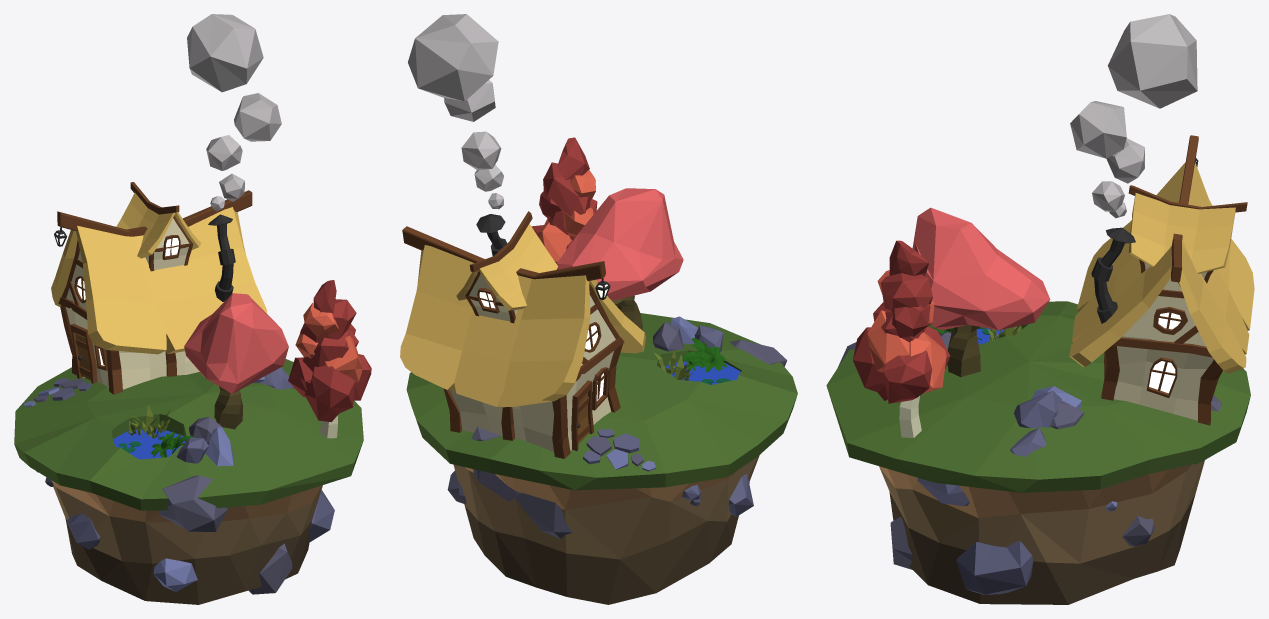
Rendered from low-poly-landscape2.fbx.
3 renders of one model, left to right at view 1: azimuth 30°, elevation 25°; view 2: azimuth 150°, elevation 25°; view 3: azimuth 270°, elevation 25°, orthographic. The views are drawn at different scales.
Parts seen in each view (by area): view 1: Cylinder.005, Cylinder, roof, Icosphere.013, smoke 3, house body, Icosphere.017, Icosphere.002, attic roof, smoke 4, house main beam, Cylinder.003 (+20 smaller); view 2: Cylinder.005, Cylinder, roof, Icosphere.013, smoke 3, house body, attic roof, Icosphere.022, house main beam, Icosphere.011, smoke, smoke 4 (+14 smaller); view 3: Cylinder.005, Cylinder, roof, Icosphere.013, house body, smoke 3, attic roof, Icosphere.020, smoke 4, Icosphere.003, Cylinder.003, Icosphere.011 (+20 smaller).
Boxes of the visible parts, x1,y1,x2,y2 form: Cylinder.005: [14, 359, 363, 510]; Cylinder: [52, 480, 322, 604]; roof: [51, 207, 267, 354]; Icosphere.013: [184, 293, 288, 393]; smoke 3: [187, 14, 263, 92]; house body: [66, 251, 199, 389]; Icosphere.017: [159, 475, 227, 531]; Icosphere.002: [304, 365, 355, 422]; attic roof: [116, 192, 201, 258]; smoke 4: [234, 93, 281, 141]; house main beam: [57, 190, 252, 236]; Cylinder.003: [208, 214, 235, 301]; Cylinder.005: [406, 313, 797, 490]; Cylinder: [453, 455, 759, 604]; roof: [400, 245, 645, 407]; Icosphere.013: [556, 188, 683, 300]; smoke 3: [408, 14, 498, 101]; house body: [450, 295, 615, 452]; attic roof: [456, 224, 557, 310]; Icosphere.022: [471, 427, 572, 538]; house main beam: [402, 226, 605, 280]; Icosphere.011: [543, 162, 590, 216]; smoke: [461, 131, 501, 170]; smoke 4: [444, 80, 495, 121]; Cylinder.005: [826, 301, 1250, 492]; Cylinder: [879, 460, 1204, 604]; roof: [1069, 162, 1254, 373]; Icosphere.013: [912, 207, 1050, 330]; house body: [1114, 278, 1213, 420]; smoke 3: [1107, 14, 1197, 108]; attic roof: [1128, 193, 1235, 273]; Icosphere.020: [956, 541, 1033, 594]; smoke 4: [1070, 101, 1126, 158]; Icosphere.003: [883, 350, 932, 403]; Cylinder.003: [1091, 227, 1135, 323]; Icosphere.011: [881, 273, 932, 309].
Size of the model in its own units: 548 by 848 by 554.
